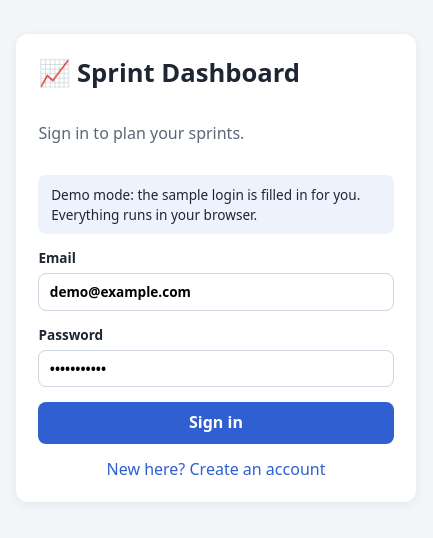
Test case: Sprint Dashboard › shows an error for a wrong password
Type "wrong-password" into the password field labelled "Password" at (216, 368), box [38,350,394,387]
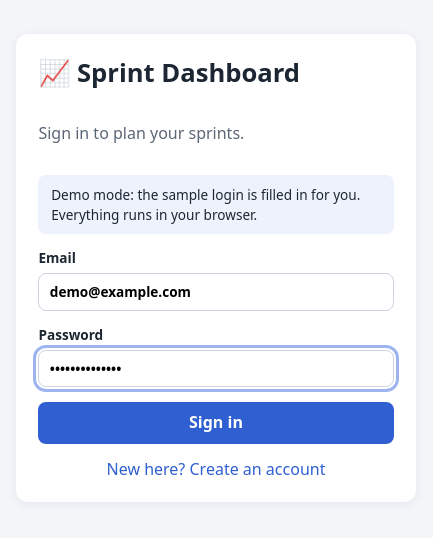
Click the button "Sign in" at (216, 423), box [38,402,394,444]
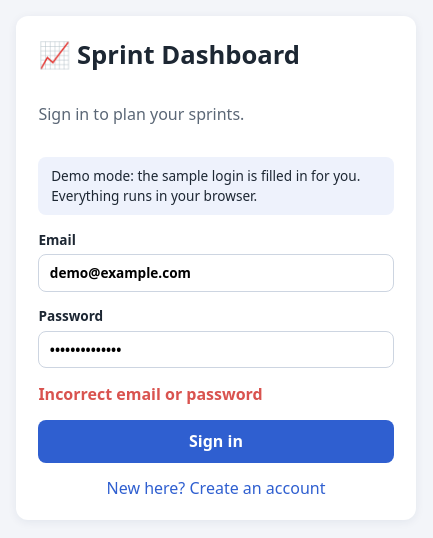
Check: the message reads "Incorrect email or password", box [38,383,263,405]
